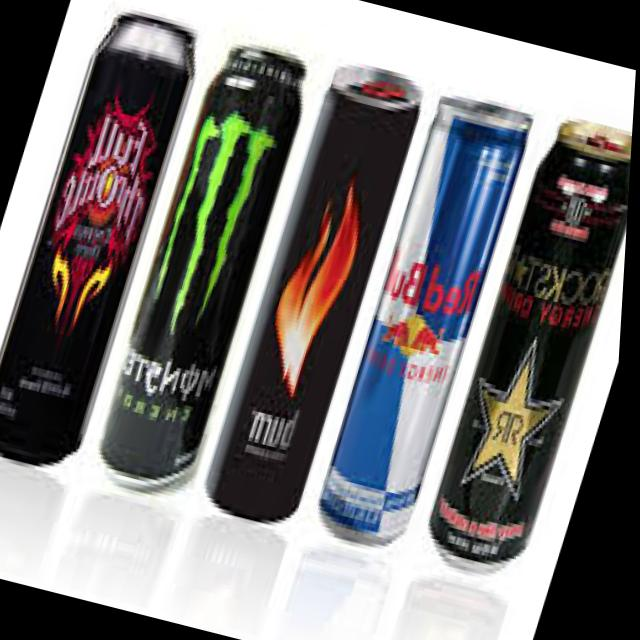Lata: (193, 58, 432, 532), (87, 30, 324, 502), (311, 88, 541, 554), (415, 102, 634, 577)
